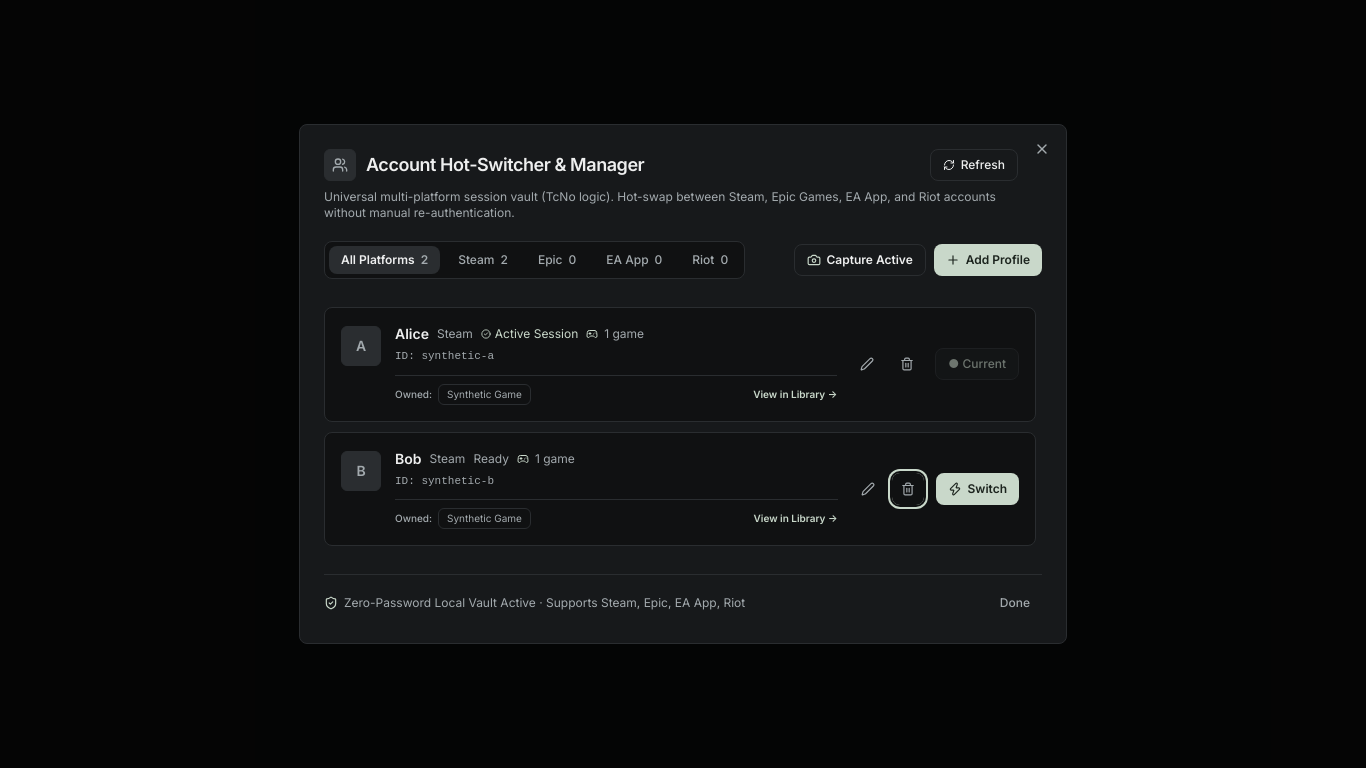
Scenario: account manager presentation and preserved workflows › Remove Bob nested dismissal restores its parent action
Click the button named "Remove Bob".
click(908, 489)  # box [892,473,924,505]
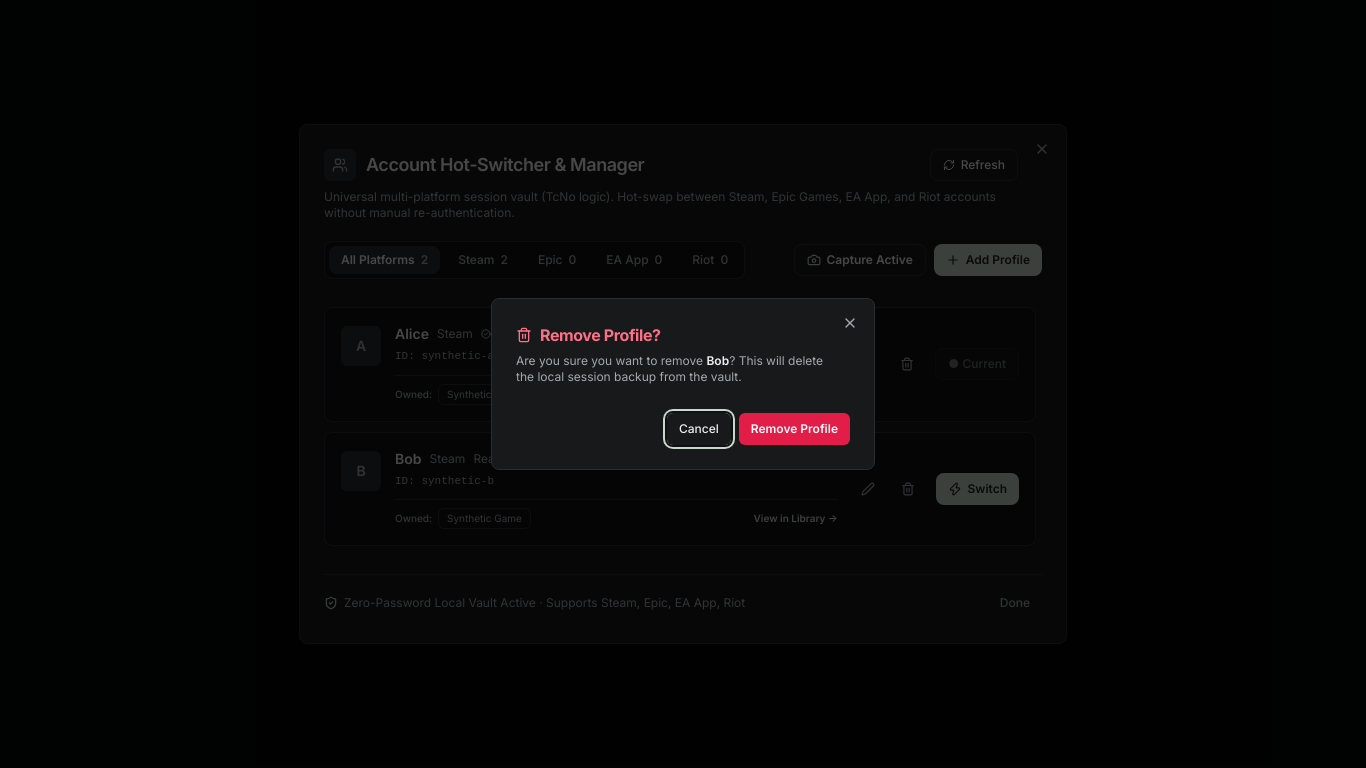
Press Escape in the button "Cancel", box [667,413,731,445]
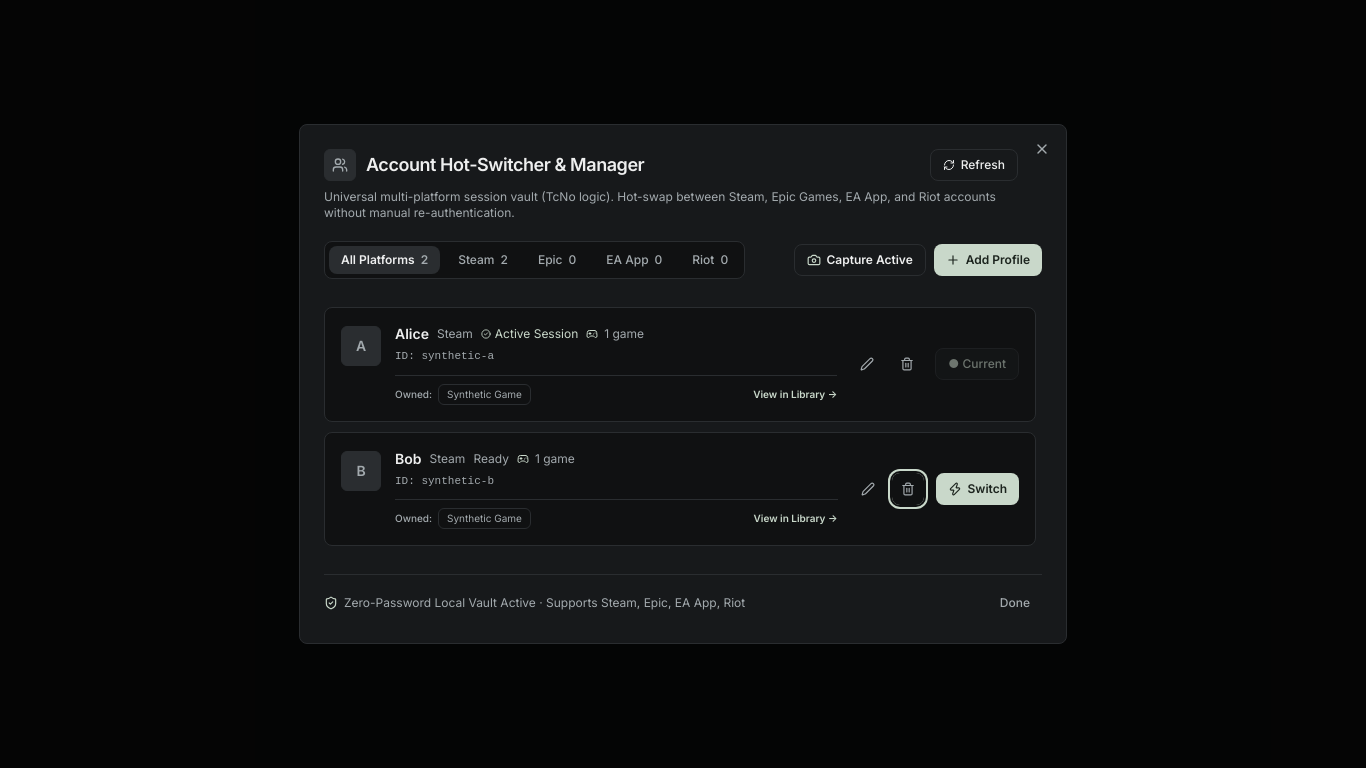
Expected: the dialog "Account Hot-Switcher & Manager" is shown, [299,124,1067,644]
Now the heading "Remove Profile?" is gone
